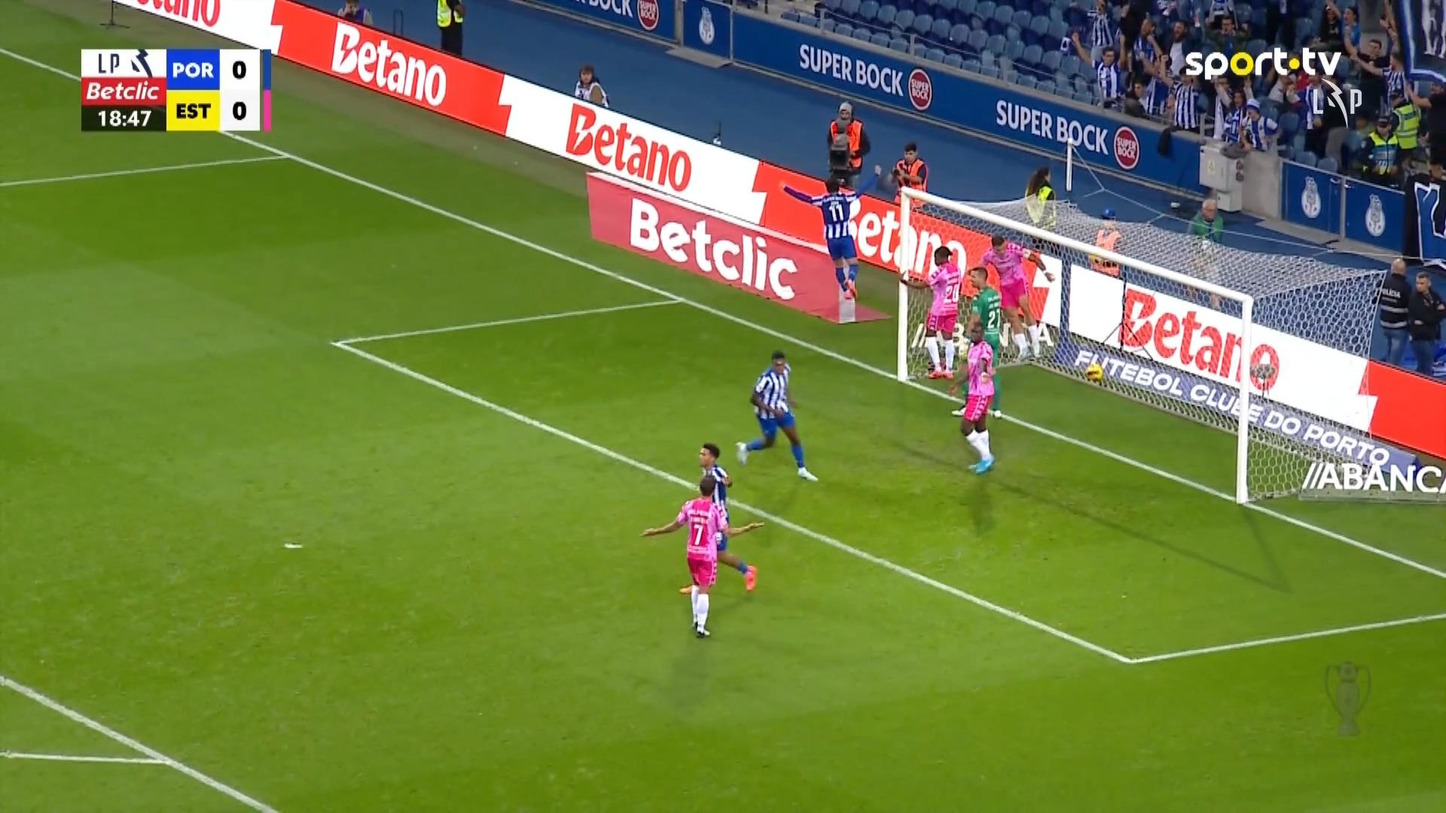ball: (1084, 362, 1103, 382)
player: (640, 477, 764, 638), (679, 442, 762, 594), (734, 349, 819, 481), (780, 173, 863, 301), (980, 233, 1055, 362), (948, 264, 1004, 418), (900, 245, 962, 379), (947, 319, 1000, 474)
